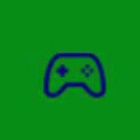ImgButton: (1, 1, 139, 139)
